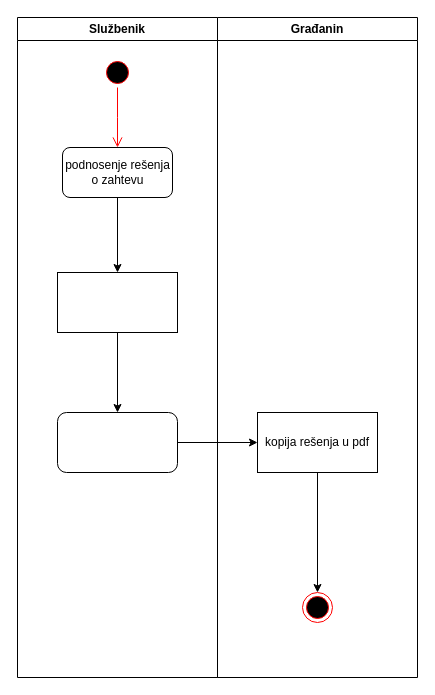
Image size: 435x695. Some labels were removed from this diagram. The centre of each missing label's shape, as x and y in pixels:
rešenje: (x=117, y=302)
slanje mejla: (x=117, y=442)
